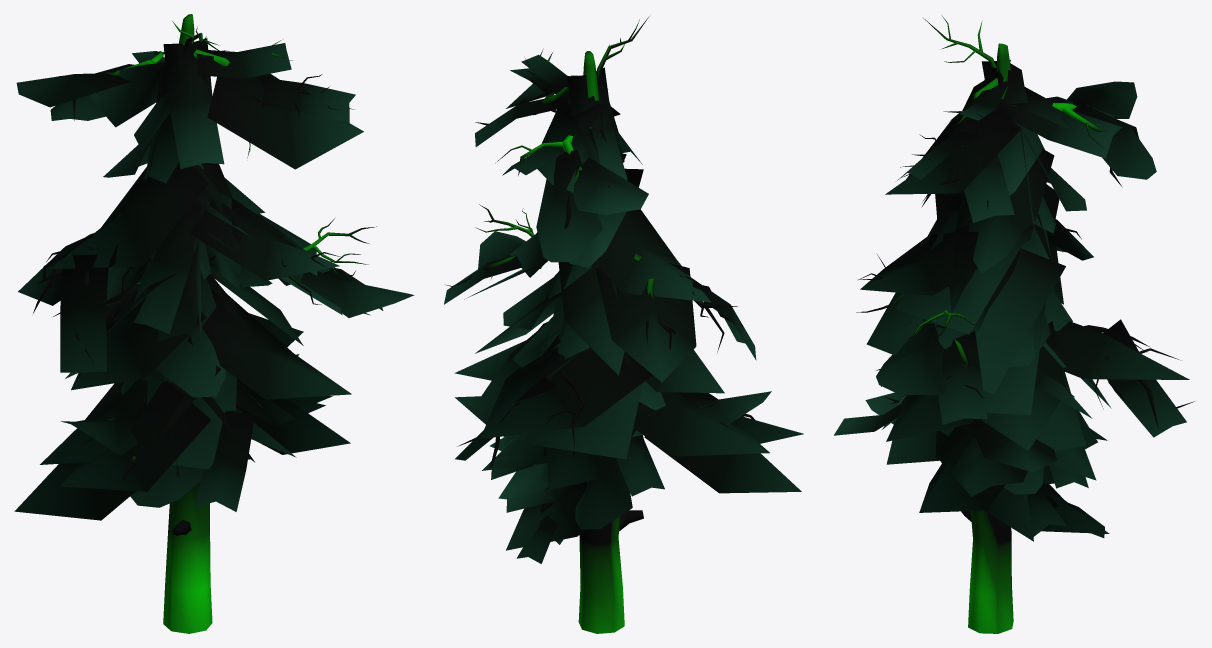
Rendered from SM_PineDead02.fbx.
The picture shows the model from 3 angles, left to right: view 1: azimuth 30°, elevation 25°; view 2: azimuth 150°, elevation 25°; view 3: azimuth 270°, elevation 25°; orthographic projection. The views are drawn at different scales.
Visible parts, largest first — view 1: SM_PineDead02_LOD0; view 2: SM_PineDead02_LOD0; view 3: SM_PineDead02_LOD0.
Part boxes in pixels (x1,y1,x2,y2): SM_PineDead02_LOD0: [14, 14, 414, 633]; SM_PineDead02_LOD0: [444, 16, 803, 633]; SM_PineDead02_LOD0: [834, 16, 1194, 633].
Size of the model in its own units: 760 by 1227 by 671.
